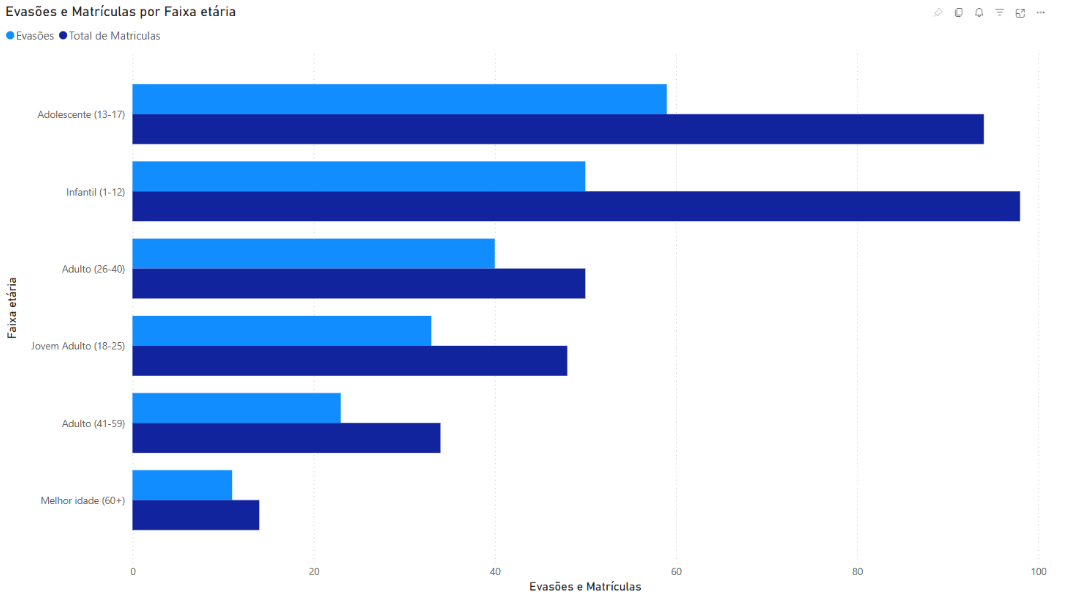

This screenshot's page, from the dashboard's own definition file:
{"tool":"powerbi","page":{"name":"Página 9","canvas":[1280,720],"ordinal":11},"visuals":[{"type":"clusteredBarChart","title":"Evasões e Matrículas por Faixa etária","fields":{"Y":["Fato Matrícula.Evasões","Fato Matrícula.Total de Matriculas"],"Category":["Dimensão Aluno.FaixaEtaria"]},"box":[10.2,0,1270.2,720],"z":0}]}

Visuals, with their boxes on the page's 1280x720 design canvas (x1, y1, x2, y2). These are canvas units, not pixel positions in the 1076x598 screenshot, which may show the page scaled, cropped or inside an application window:
"Evasões e Matrículas por Faixa etária" clusteredBarChart: {"left": 10, "top": 0, "right": 1280, "bottom": 720}
